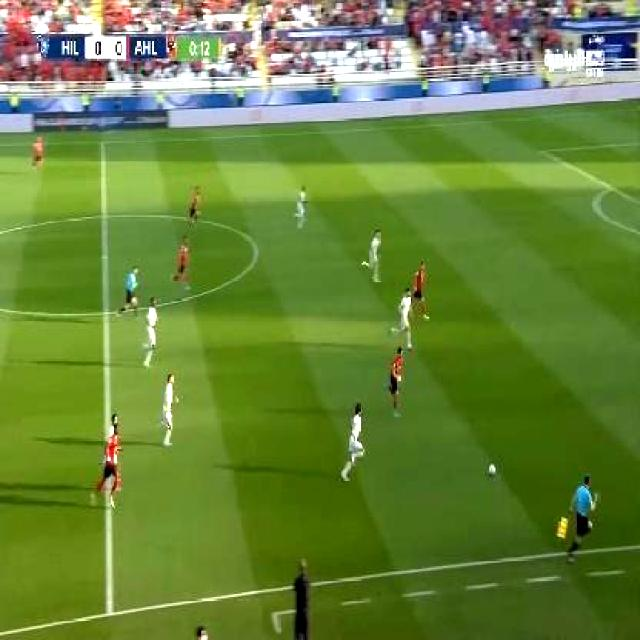bigarea_top_inner: (534, 140, 551, 160)
halfcircle_bottom: (96, 297, 116, 326)
halfcircle_top: (92, 203, 114, 229)
midline_bottom_intersection: (97, 594, 123, 624)
midline_top_intersection: (95, 132, 111, 152)
top_arc_area_intersection: (598, 176, 618, 198)
